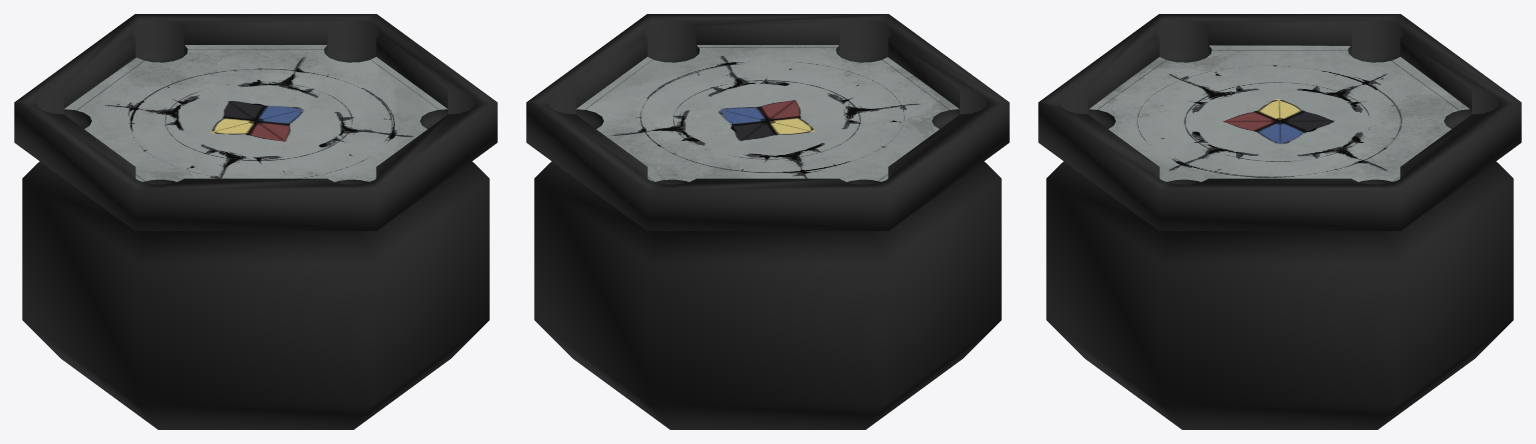
File: cauldron.fbx
The picture shows the model from 3 angles, left to right: view 1: azimuth 30°, elevation 25°; view 2: azimuth 150°, elevation 25°; view 3: azimuth 270°, elevation 25°; orthographic projection.
Visible parts, largest first — view 1: Cylinder, Cylinder.002; view 2: Cylinder, Cylinder.002; view 3: Cylinder, Cylinder.002.
Boxes of the visible parts, x1,y1,x2,y2 form: Cylinder: (14,14,497,429); Cylinder.002: (64,45,447,181); Cylinder: (526,14,1009,429); Cylinder.002: (576,45,959,181); Cylinder: (1038,14,1521,429); Cylinder.002: (1089,45,1470,181).
Bounding box in the file's own units: 179 × 121 × 207.
Materials: 2 (1 with a texture image).
